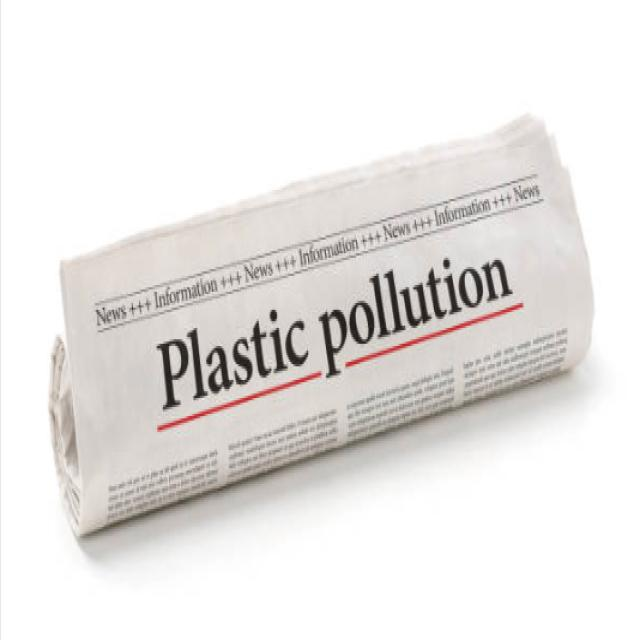Koran: (48, 109, 594, 538)
